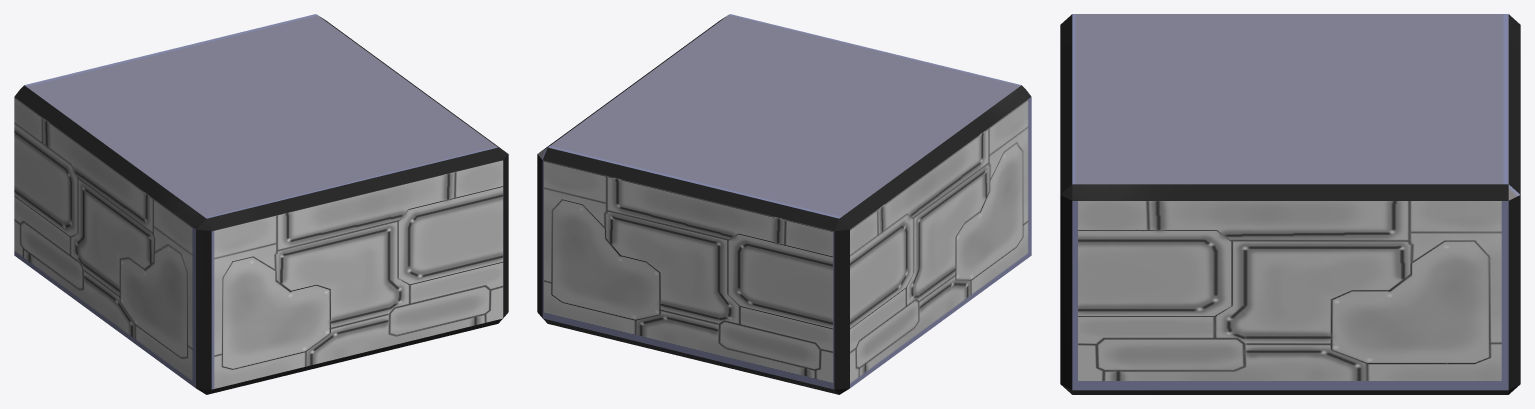
The model's file is Itens.fbx.
3 views of the same model, side by side, from view 1: azimuth 30°, elevation 25°; view 2: azimuth 150°, elevation 25°; view 3: azimuth 270°, elevation 25° (orthographic). The views are drawn at different scales.
Parts seen in each view (by area): view 1: Itens; view 2: Itens; view 3: Itens.
Boxes of the visible parts, box(x1,y1,x2,y2) form: Itens: box(14, 14, 508, 394); Itens: box(537, 14, 1031, 394); Itens: box(1060, 14, 1520, 394).
Size of the model in its own units: 764 by 412 by 815.
